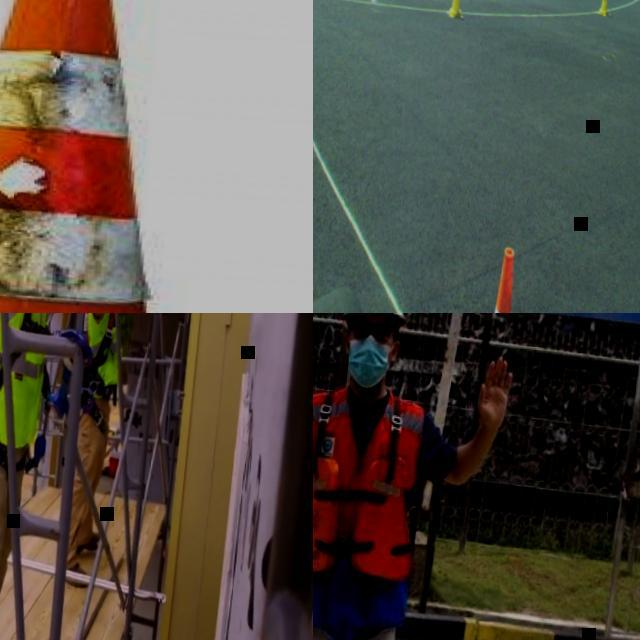vest: (313, 382, 427, 587), (0, 313, 53, 449), (79, 313, 128, 397)
